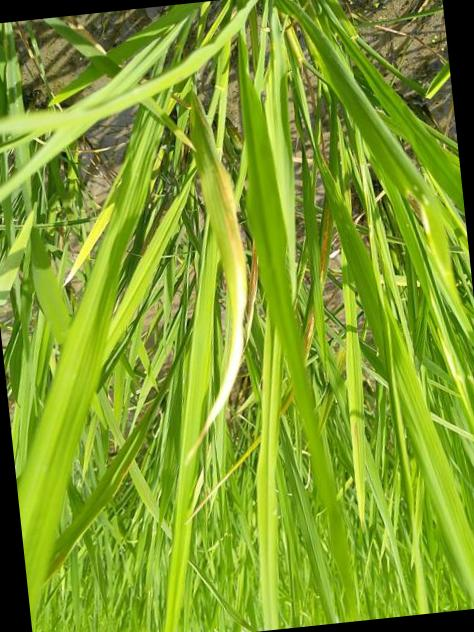Leaf Blight: (189, 88, 248, 455), (191, 438, 260, 516), (319, 194, 332, 285), (249, 243, 259, 315), (303, 307, 314, 366), (279, 388, 296, 415)
